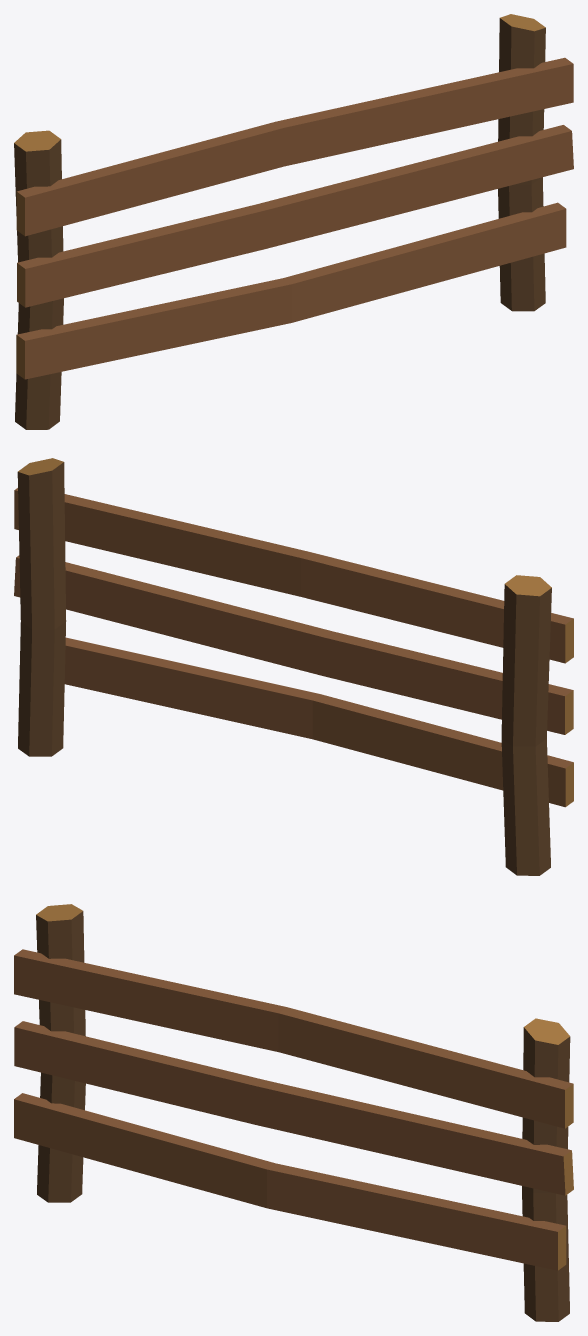
File: buildings-fence.glb
3 views of the same model, one above another, from view 1: azimuth 30°, elevation 25°; view 2: azimuth 150°, elevation 25°; view 3: azimuth 330°, elevation 25° (orthographic).
Visible parts, largest first — view 1: fence; view 2: fence; view 3: fence.
Part boxes in pixels (<box>): fence: <box>14,14,573,429</box>; fence: <box>14,458,573,875</box>; fence: <box>14,904,573,1321</box>.
Size of the model in its own units: 2.26 by 1.12 by 0.2557.
